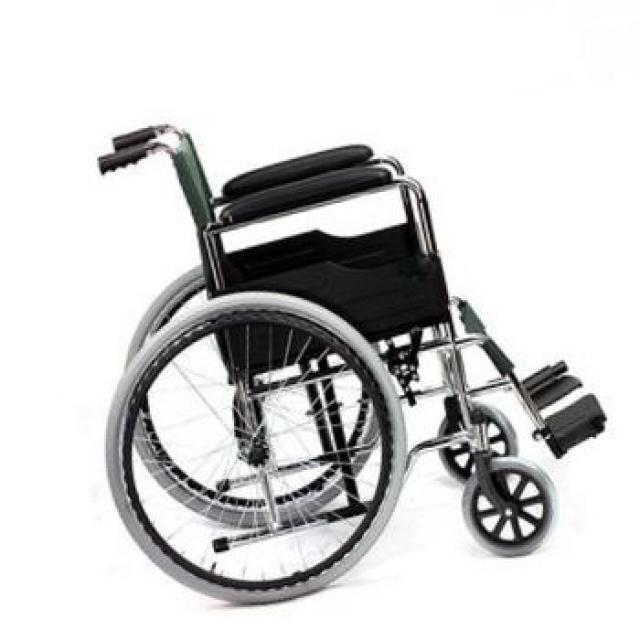wheelchair: (77, 108, 614, 619)
